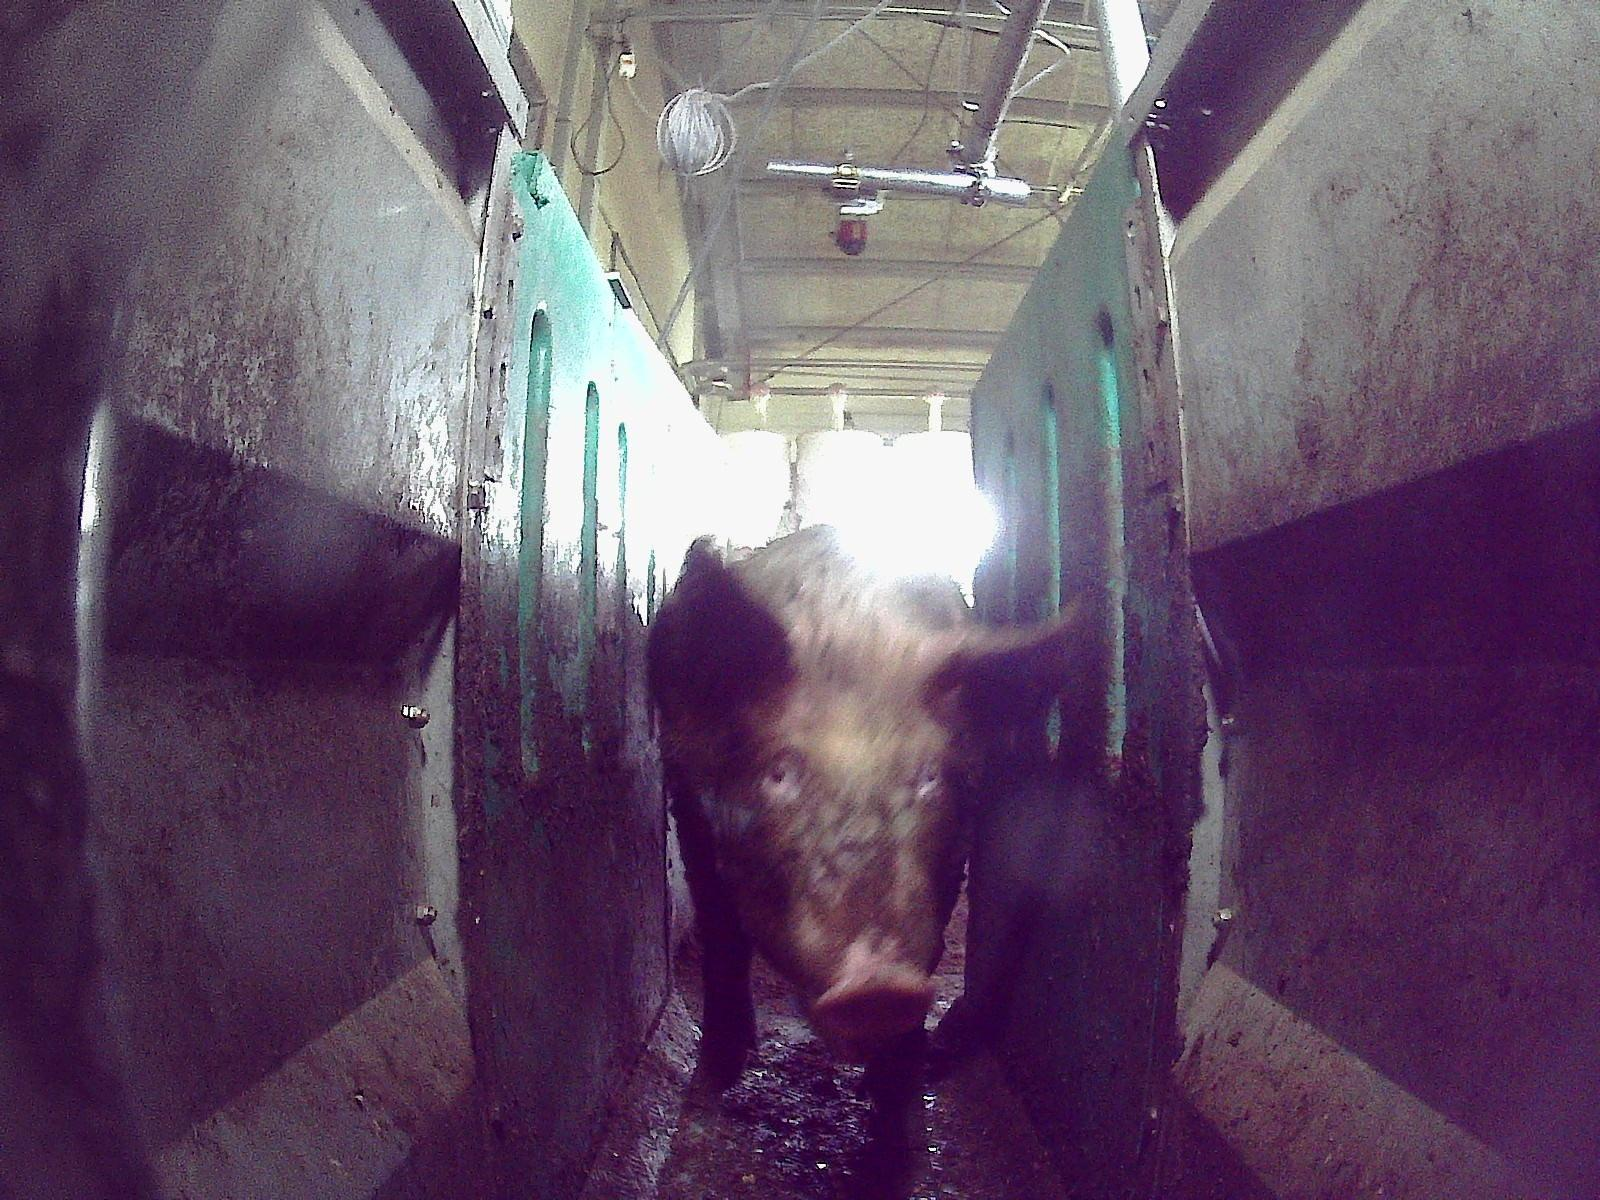Face: (720, 667, 950, 1035)
